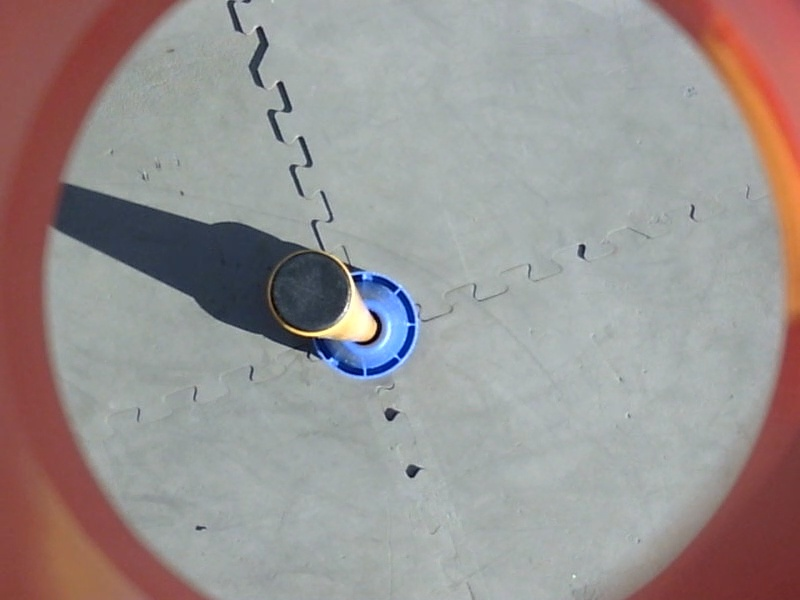tip: (265, 246, 359, 339)
